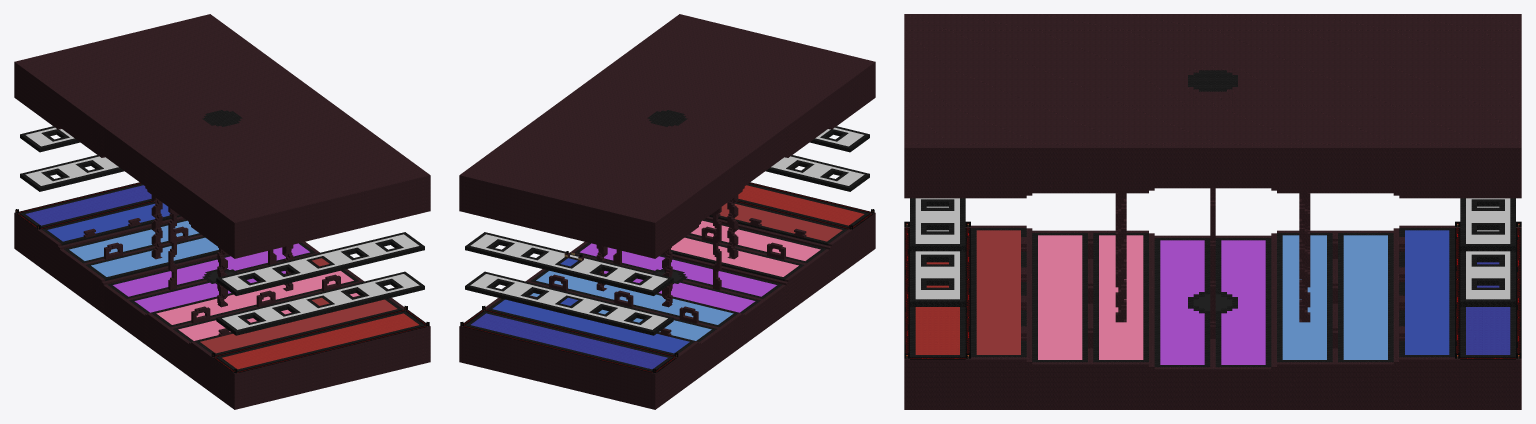
File: minecraft.obj
3 renders of one model, left to right at view 1: azimuth 30°, elevation 25°; view 2: azimuth 150°, elevation 25°; view 3: azimuth 270°, elevation 25°, orthographic. The views are drawn at different scales.
Bounding box in the file's own units: 57 × 52 × 111.
